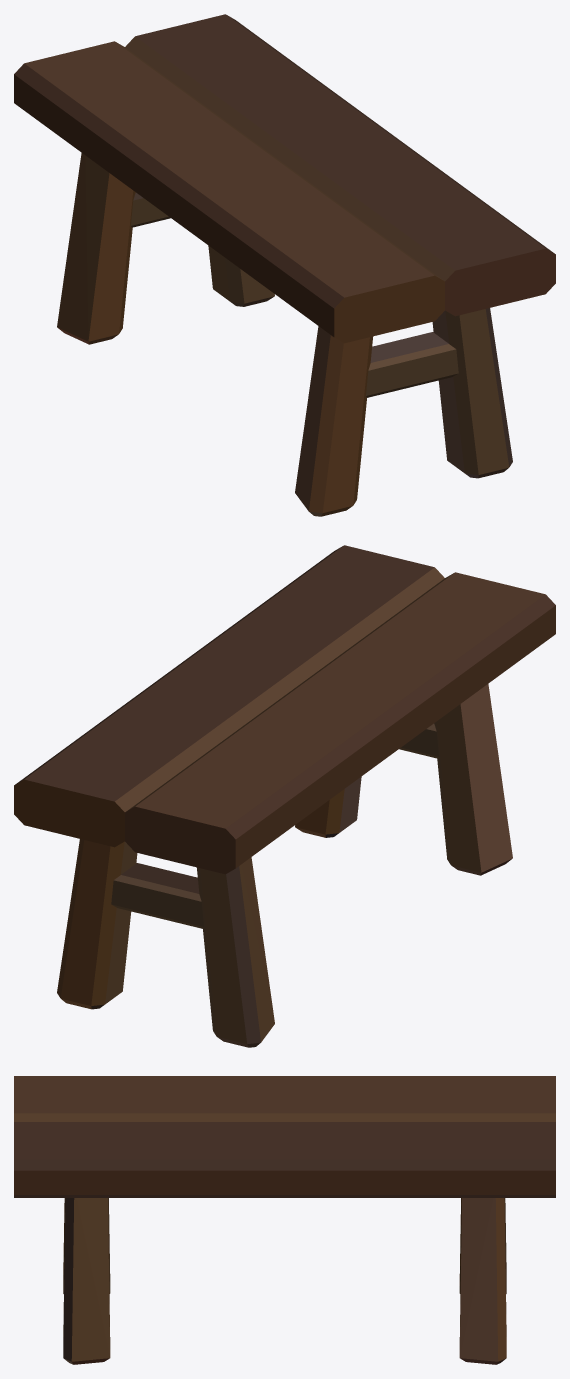
Rendered from Furniture_BenchCShort.fbx.
3 views of the same model, one above another, from view 1: azimuth 30°, elevation 25°; view 2: azimuth 150°, elevation 25°; view 3: azimuth 270°, elevation 25° (orthographic). The views are drawn at different scales.
Visible parts, largest first — view 1: Furniture_BenchCShort; view 2: Furniture_BenchCShort; view 3: Furniture_BenchCShort.
Boxes of the visible parts, <box> form: Furniture_BenchCShort: <box>14,14,555,516</box>; Furniture_BenchCShort: <box>14,545,555,1047</box>; Furniture_BenchCShort: <box>14,1076,555,1364</box>.
Size of the model in its own units: 50 by 52.85 by 125.
